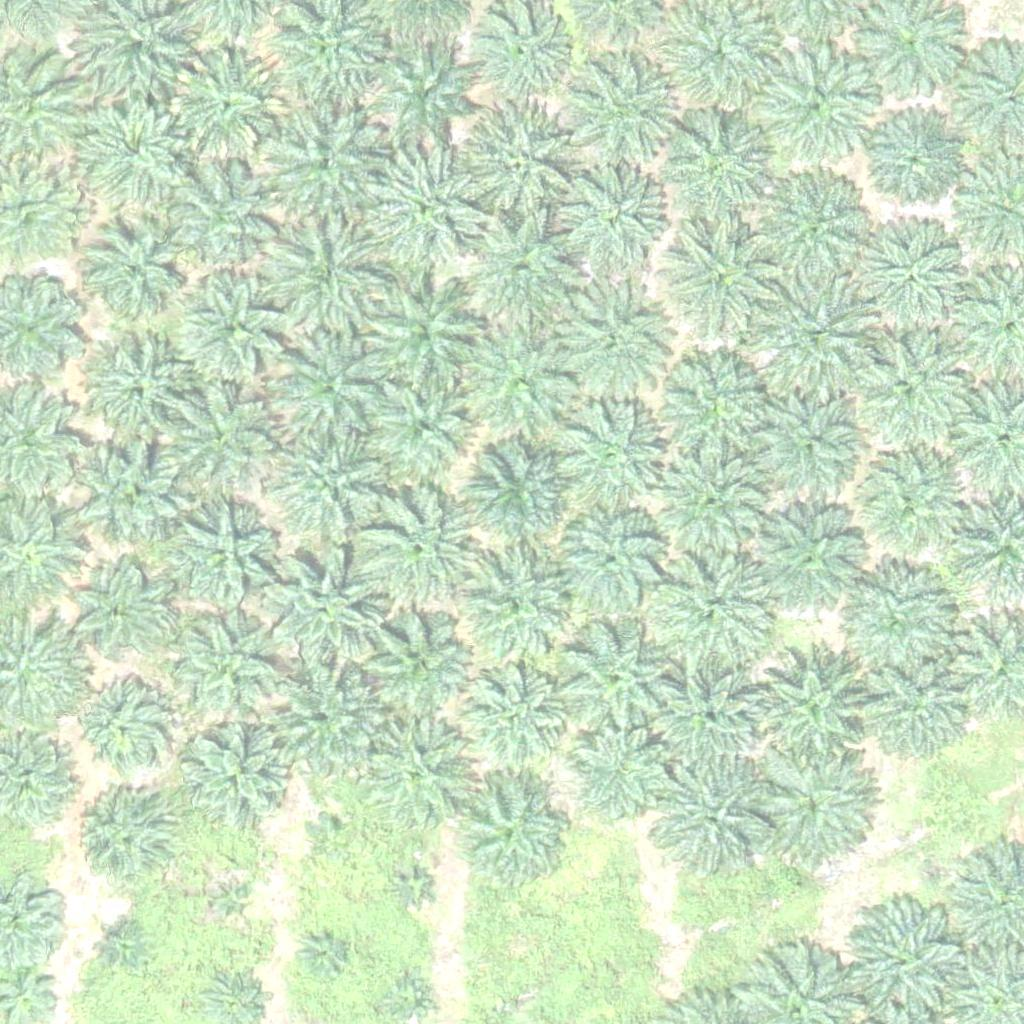Kelapa_Sawit: (752, 168, 877, 294), (658, 109, 783, 235), (658, 221, 783, 347), (453, 100, 578, 226), (461, 211, 586, 337), (357, 146, 482, 272), (263, 101, 388, 227), (253, 216, 378, 342), (166, 609, 291, 735), (269, 324, 394, 450), (267, 418, 392, 544), (262, 553, 387, 679), (262, 668, 387, 794), (359, 263, 484, 389), (363, 362, 488, 488), (359, 483, 484, 609), (349, 596, 474, 722), (451, 318, 576, 444), (545, 400, 670, 526), (548, 277, 673, 403), (550, 620, 675, 746), (655, 440, 780, 566), (654, 548, 779, 674), (650, 756, 775, 882), (836, 330, 961, 456), (749, 641, 874, 767), (753, 745, 878, 871), (750, 40, 875, 165), (655, 346, 780, 471), (841, 441, 966, 566), (830, 559, 955, 684), (451, 657, 564, 771), (463, 550, 576, 664), (564, 719, 677, 833), (84, 338, 197, 451), (69, 434, 182, 547), (183, 724, 296, 837), (455, 776, 568, 889), (466, 438, 579, 551), (750, 504, 863, 617), (751, 390, 864, 503), (764, 275, 877, 388), (856, 649, 969, 762), (163, 385, 275, 499), (866, 225, 978, 338), (552, 161, 664, 274), (568, 55, 680, 168), (171, 47, 283, 160), (170, 163, 282, 276), (77, 216, 189, 329), (77, 92, 189, 205), (178, 272, 290, 385), (165, 498, 277, 611), (362, 724, 474, 837), (556, 508, 668, 621), (648, 664, 760, 777), (866, 111, 966, 212), (68, 562, 168, 663), (70, 679, 170, 780), (68, 792, 168, 893), (375, 40, 475, 140), (298, 925, 348, 975), (387, 862, 437, 912), (383, 973, 433, 1023), (203, 877, 253, 927), (306, 808, 356, 858), (105, 931, 143, 968)
